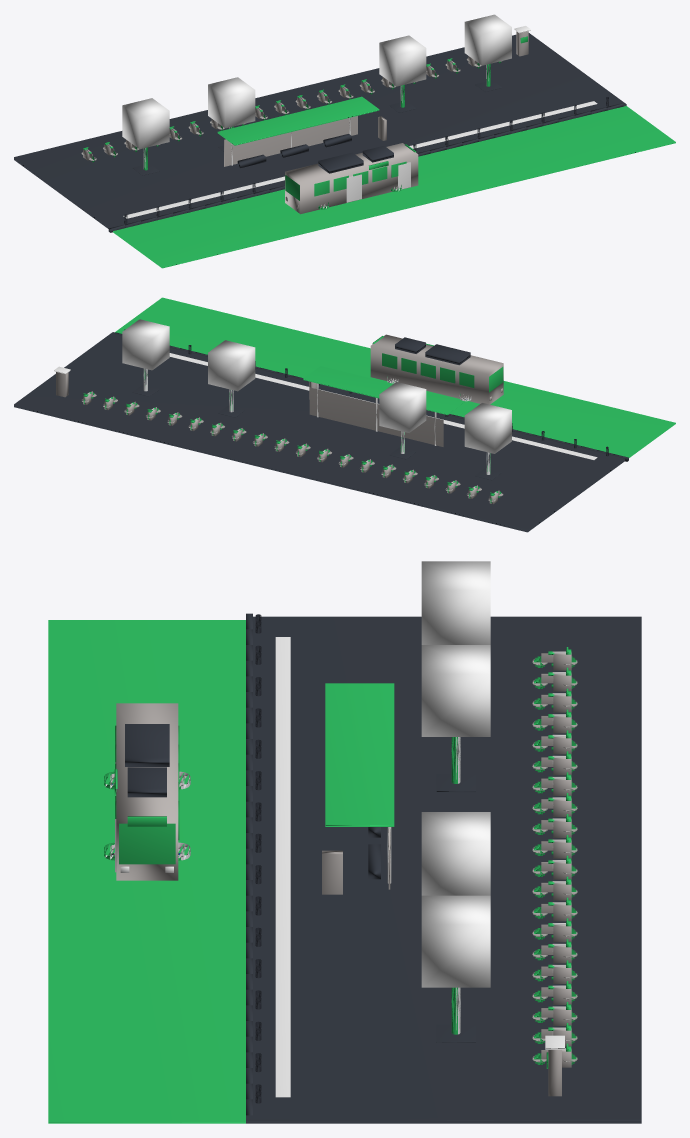
3 renders of one model, top to bottom at view 1: azimuth 30°, elevation 25°; view 2: azimuth 150°, elevation 25°; view 3: azimuth 270°, elevation 25°, orthographic. The views are drawn at different scales.
Visible parts, largest first — view 1: transit_plaza_and_bay, transit_shelter_and_furniture, transit_blue_trunk_bus, transit_ttareungi_station; view 2: transit_plaza_and_bay, transit_shelter_and_furniture, transit_blue_trunk_bus, transit_ttareungi_station; view 3: transit_plaza_and_bay, transit_shelter_and_furniture, transit_ttareungi_station, transit_blue_trunk_bus.
Boxes of the visible parts, x1=… form: transit_plaza_and_bay: x1=14, y1=33, x2=675, y2=268; transit_shelter_and_furniture: x1=122, y1=14, x2=511, y2=175; transit_blue_trunk_bus: x1=285, y1=143, x2=418, y2=214; transit_ttareungi_station: x1=81, y1=26, x2=530, y2=162; transit_plaza_and_bay: x1=14, y1=297, x2=675, y2=532; transit_shelter_and_furniture: x1=122, y1=319, x2=511, y2=480; transit_blue_trunk_bus: x1=370, y1=334, x2=503, y2=404; transit_ttareungi_station: x1=54, y1=366, x2=503, y2=504; transit_plaza_and_bay: x1=48, y1=613, x2=641, y2=1123; transit_shelter_and_furniture: x1=322, y1=561, x2=490, y2=1042; transit_ttareungi_station: x1=532, y1=647, x2=577, y2=1096; transit_blue_trunk_bus: x1=104, y1=703, x2=190, y2=880.
Bounding box in the file's own units: 48.23 × 5.8 × 24.
Materials: 4 (4 with a texture image).
